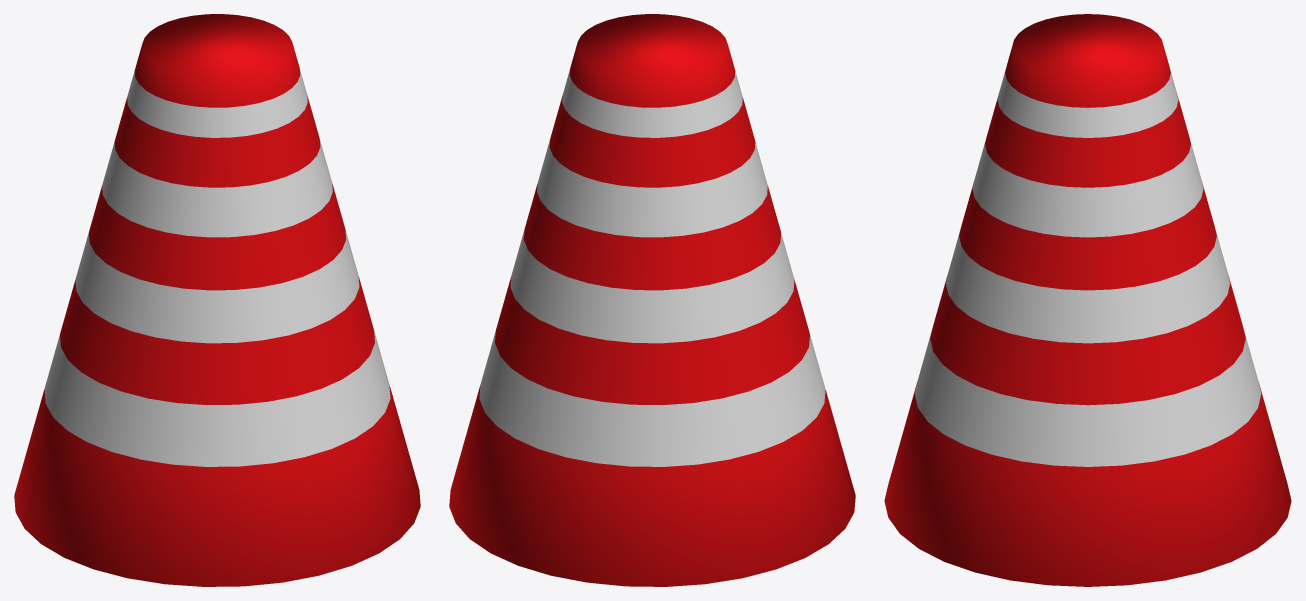
Rendered from river_stone.glb.
3 renders of one model, left to right at view 1: azimuth 30°, elevation 25°; view 2: azimuth 150°, elevation 25°; view 3: azimuth 270°, elevation 25°, orthographic.
Visible parts, largest first — view 1: Cylinder.005; view 2: Cylinder.005; view 3: Cylinder.005.
Boxes of the visible parts, x1,y1,x2,y2 form: Cylinder.005: (14, 14, 420, 586); Cylinder.005: (449, 14, 855, 586); Cylinder.005: (884, 14, 1291, 586).
Bounding box in the file's own units: 1.62 × 2 × 1.62.
